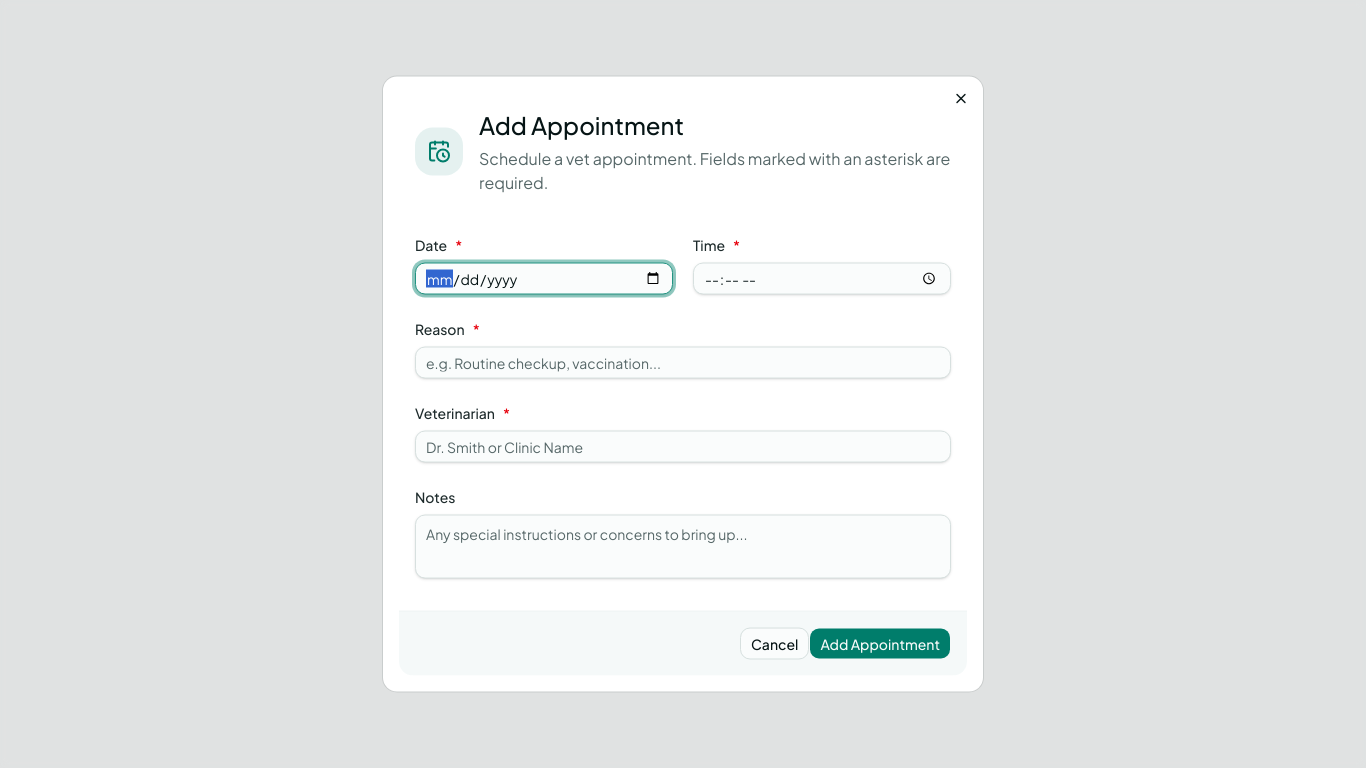
Test: AppointmentFormDialog › blocks scheduling in the past during new appointment creation
# Fill valid values except a past date
Type "2020-01-01" into the date field labelled "Date *" at (544, 278), box [415,262,673,294]
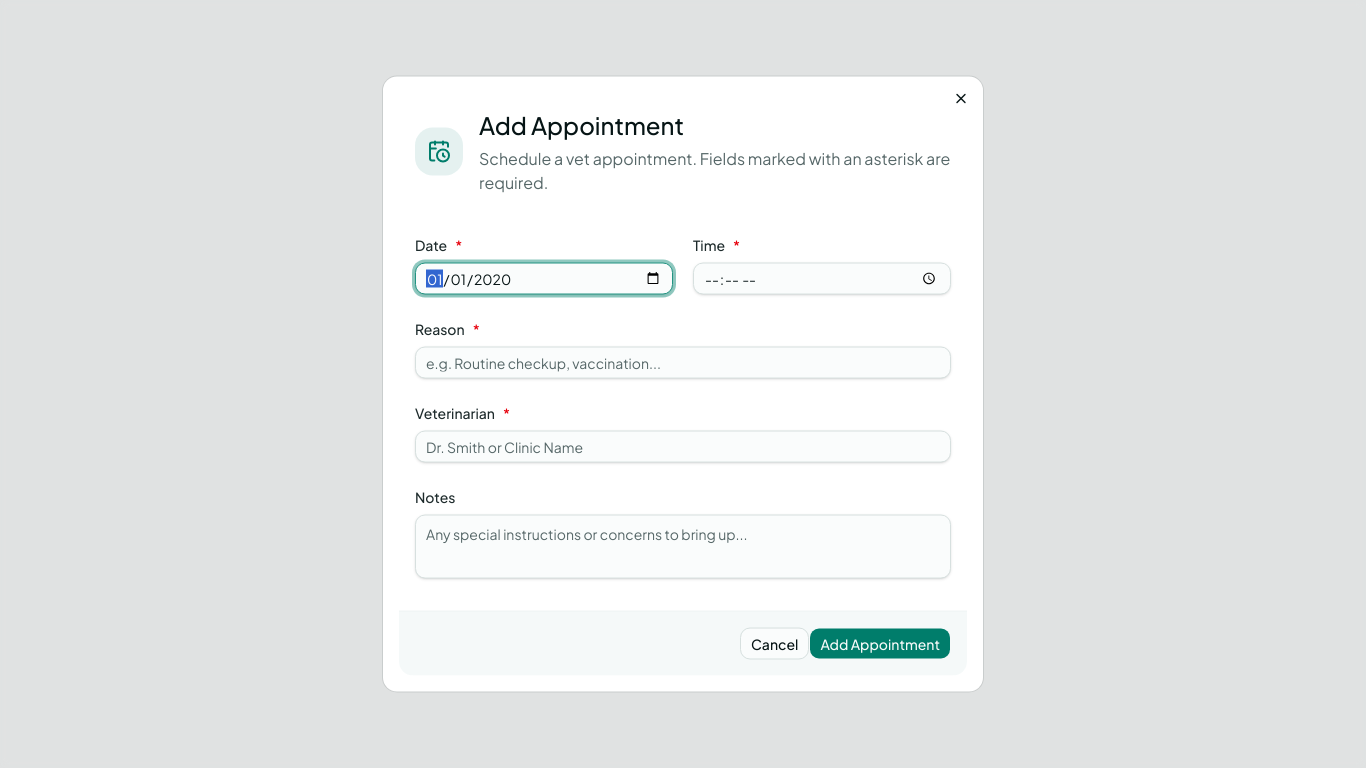
Type "09:00" into the time field labelled "Time *" at (822, 278), box [693,262,951,294]
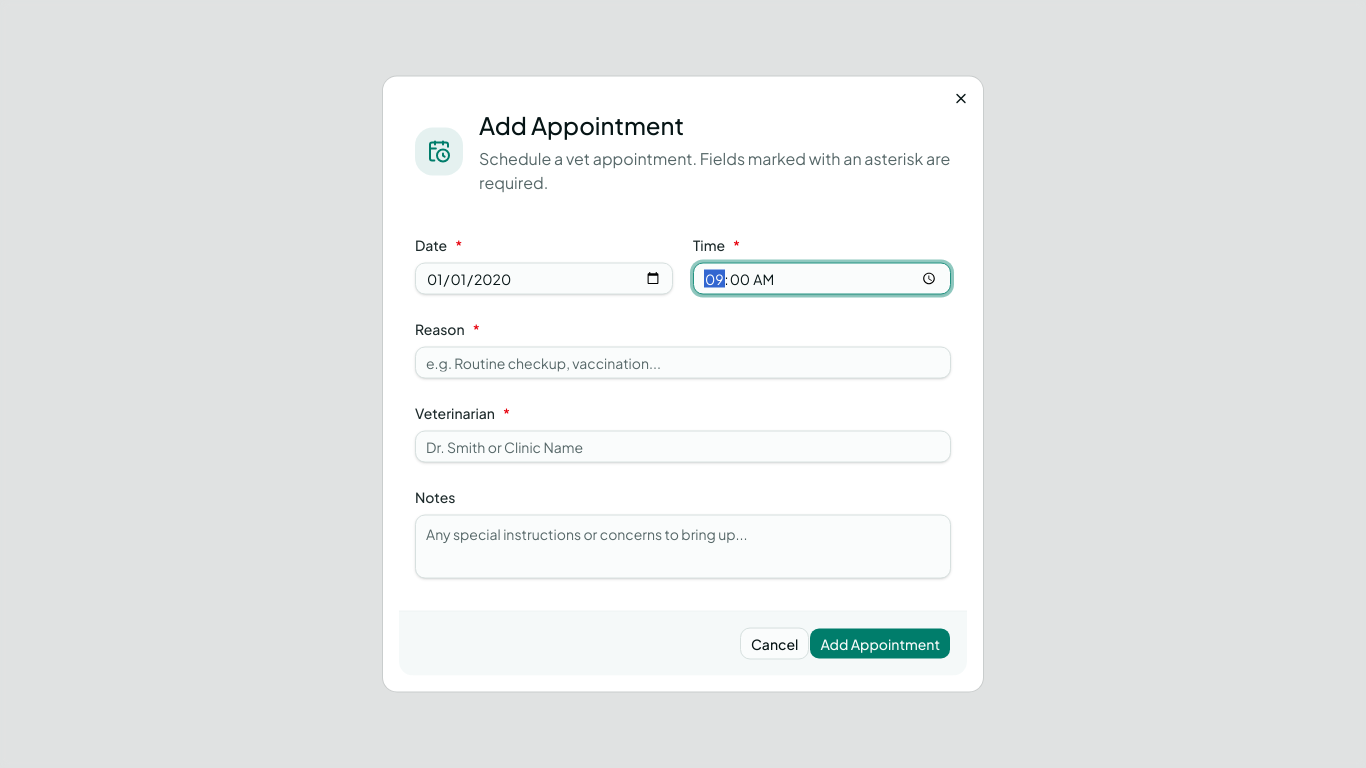
Type "Dental Cleaning" into the field labelled "Reason *" at (683, 362), box [415,346,951,378]
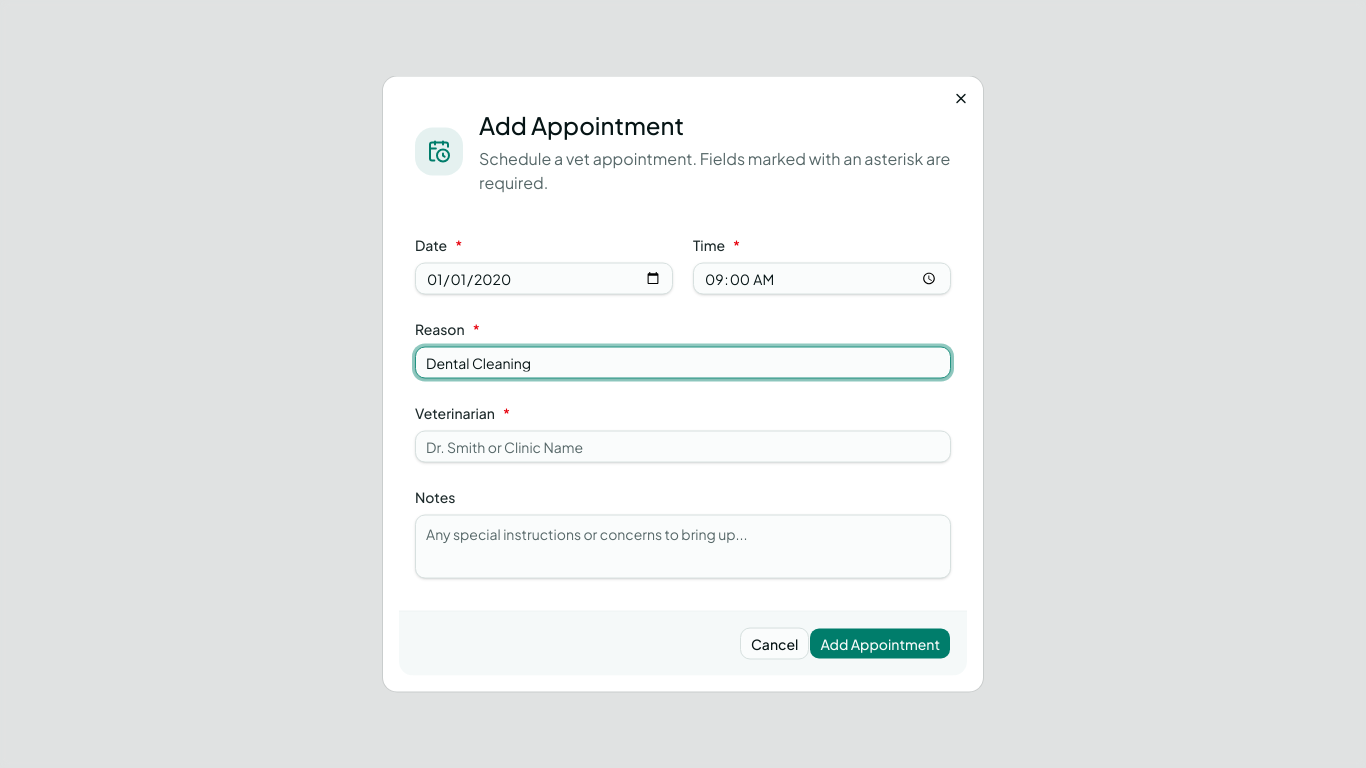
Type "Dr. Adams" into the field labelled "Veterinarian *" at (683, 446), box [415,430,951,462]
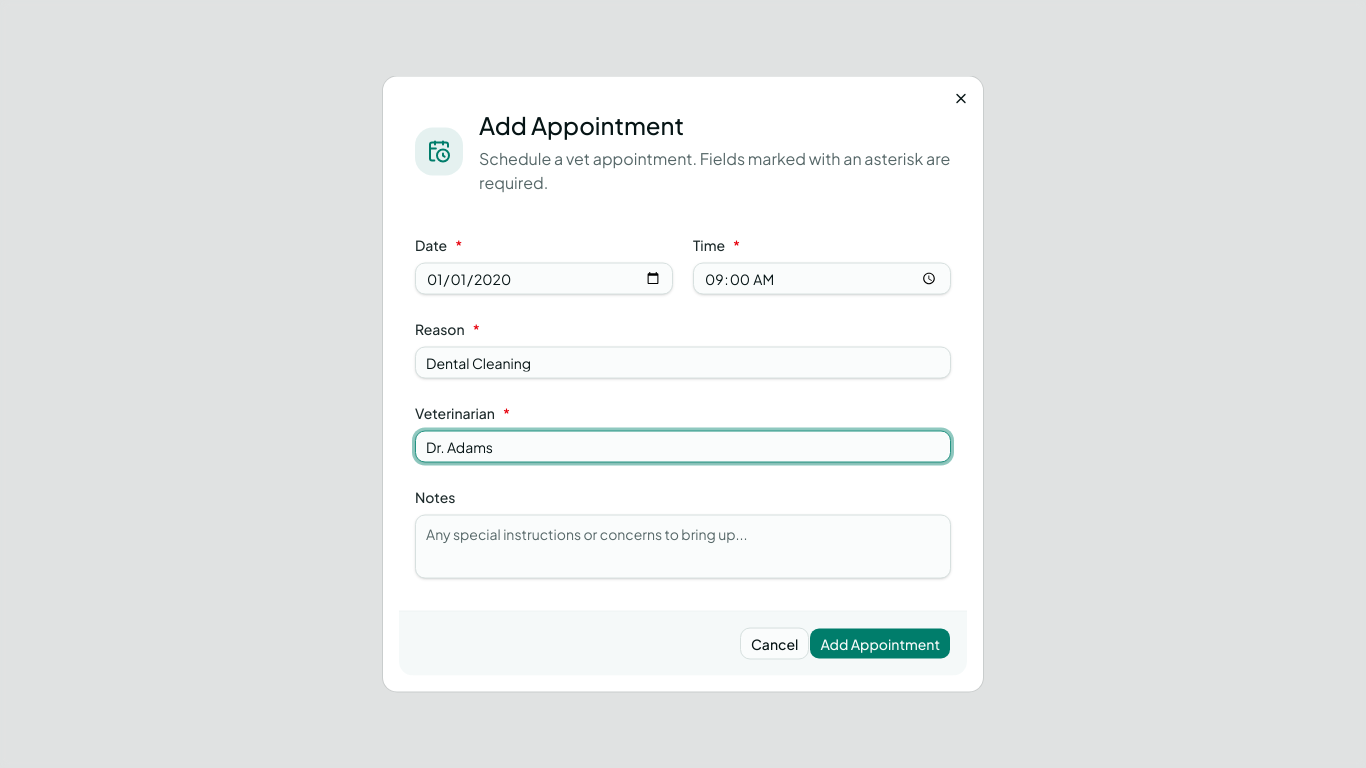
Click the button "Add Appointment" at (880, 644), box [809,628,951,660]
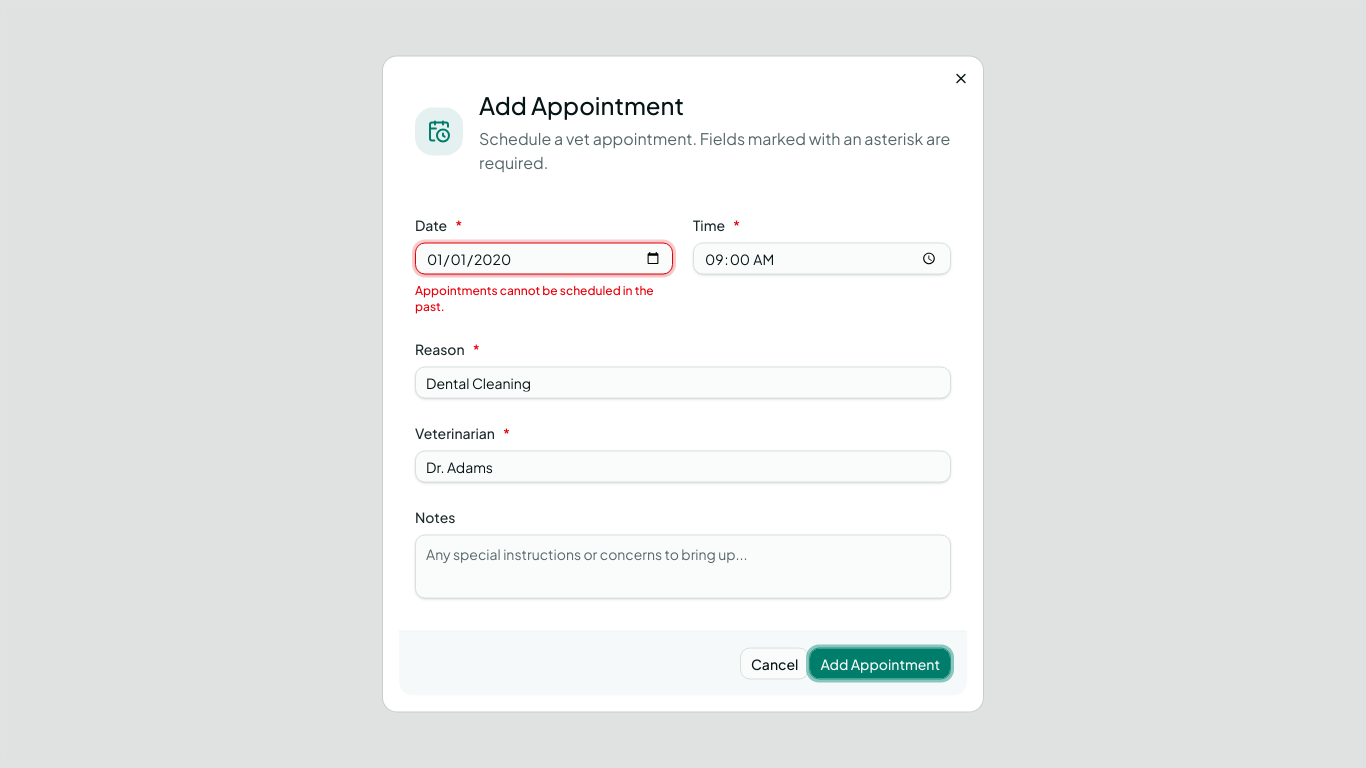
Expected: the text "Appointments cannot be scheduled in the past." is shown, [415,282,673,314]
